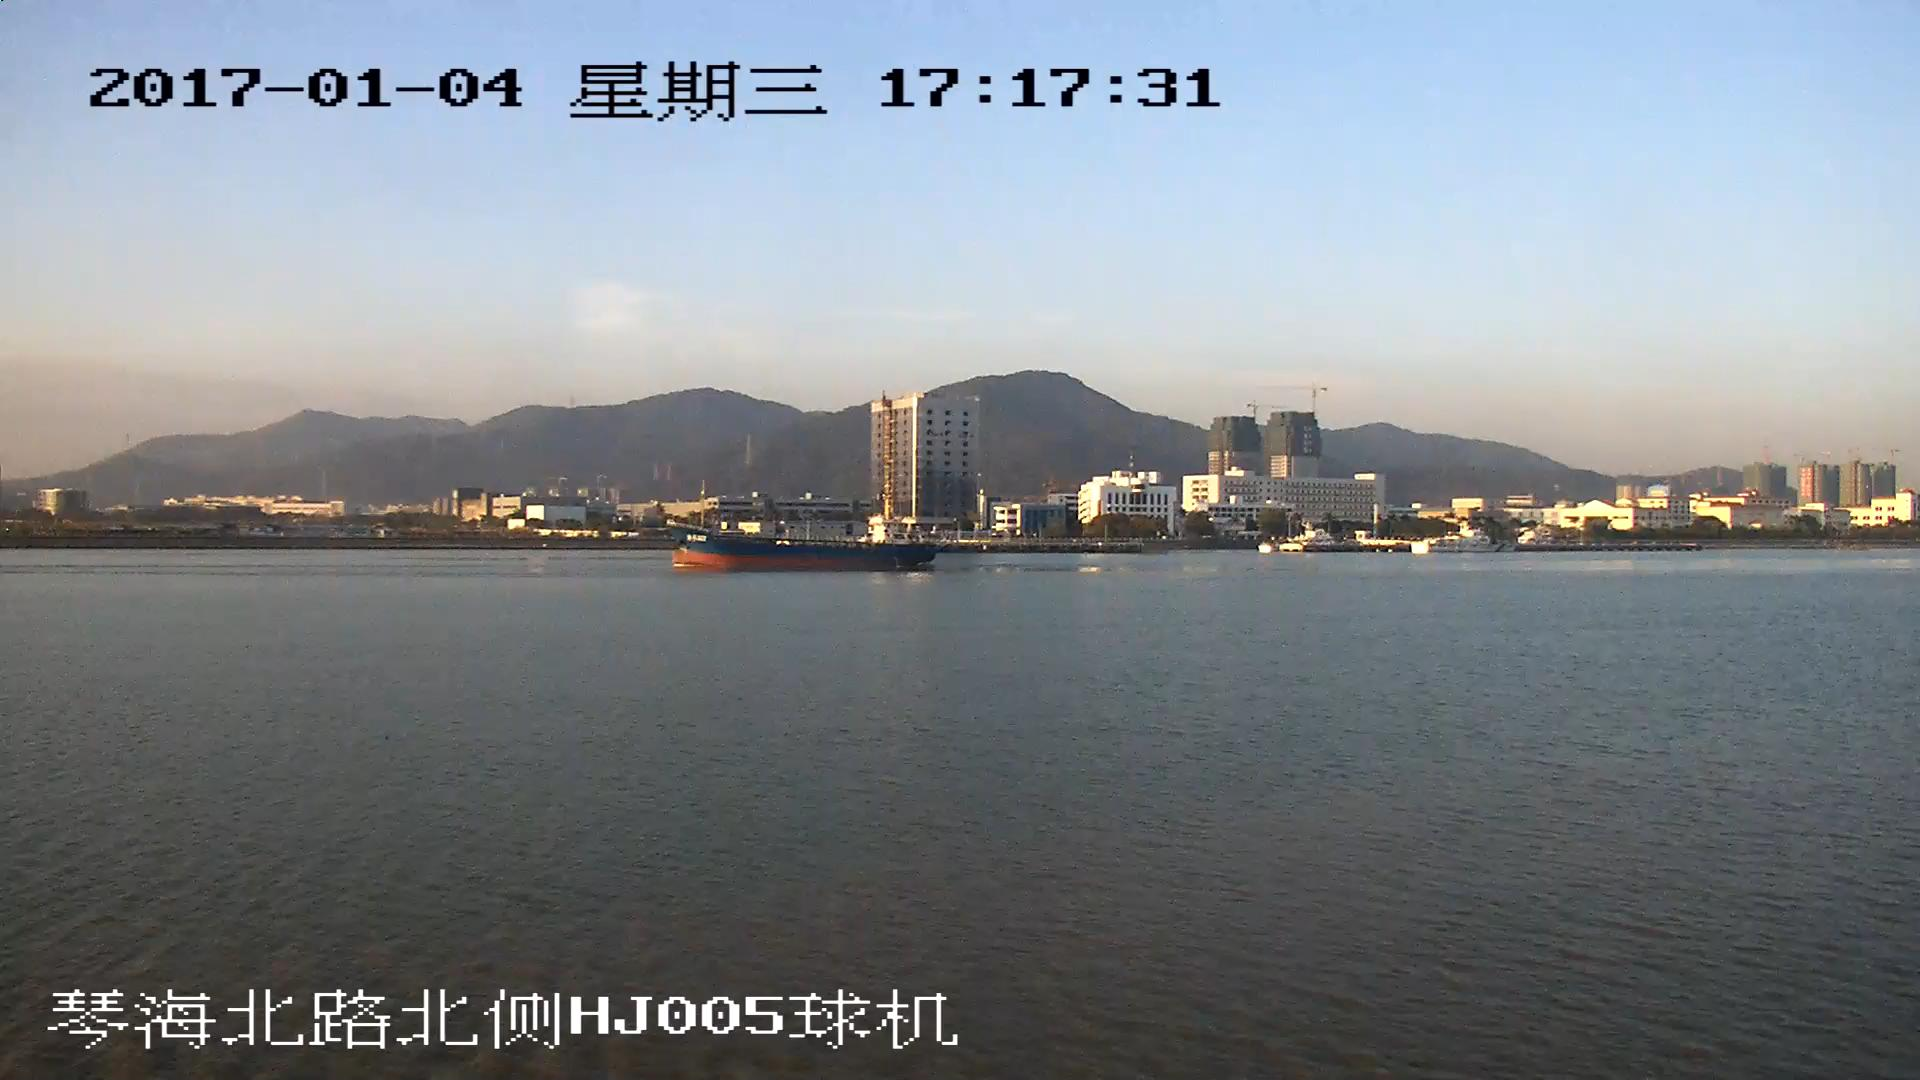general cargo ship: (665, 487, 938, 565)
